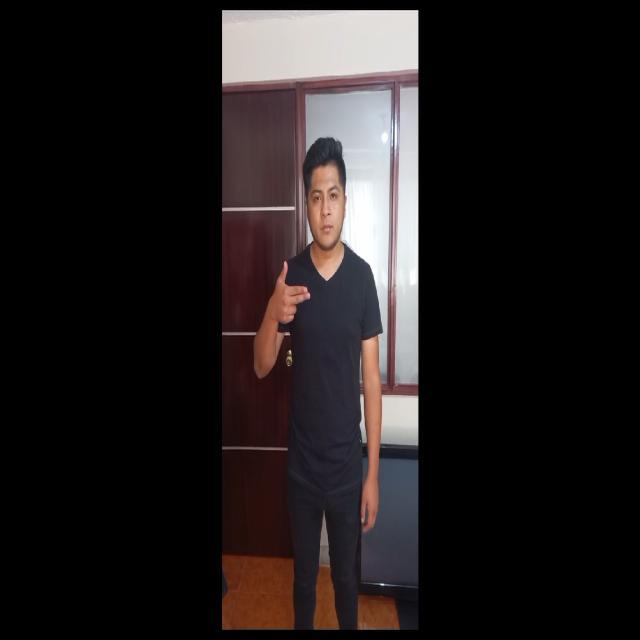H: (256, 255, 317, 337)
